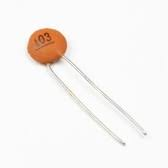ceramic capacitor: (9, 11, 91, 87)
